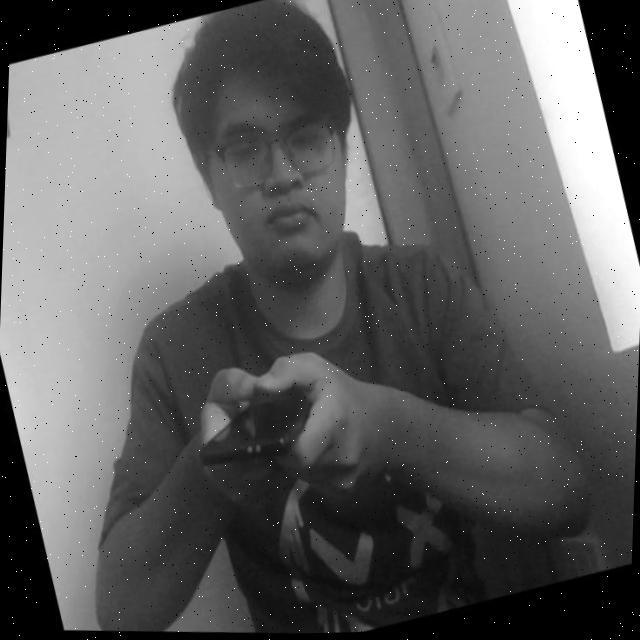phone: (159, 343, 342, 506)
